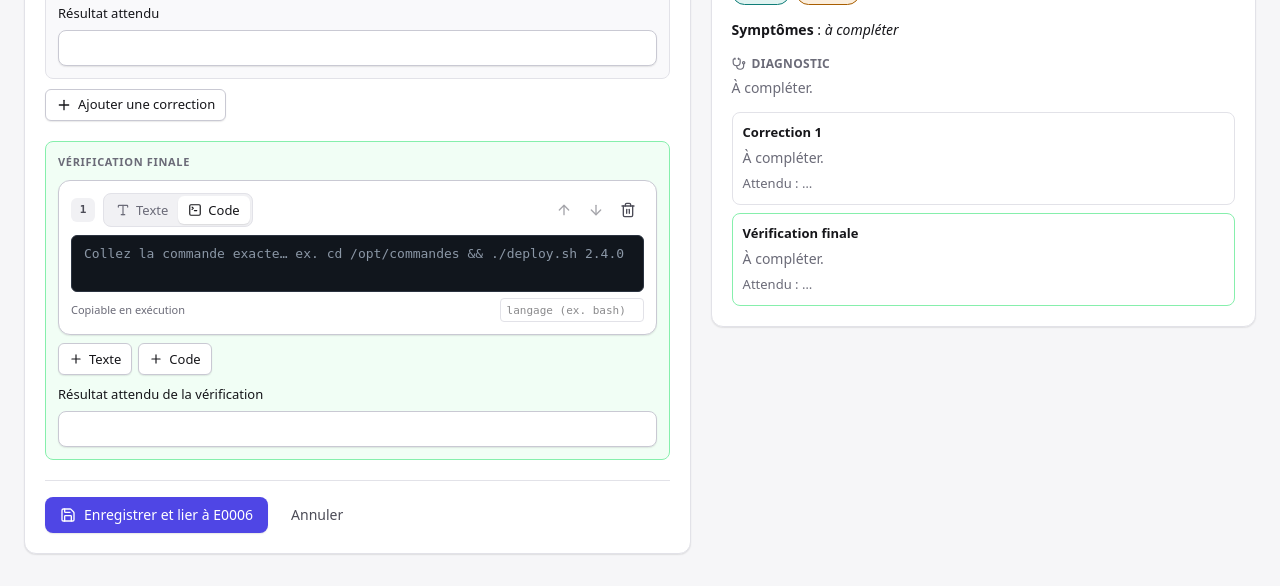
Test: NouvelleResolutionPage › titre obligatoire
(page scrolled)
Click the button "Enregistrer et lier à E0006" at x=157, y=515, box [45,497,268,533]
(page scrolled)
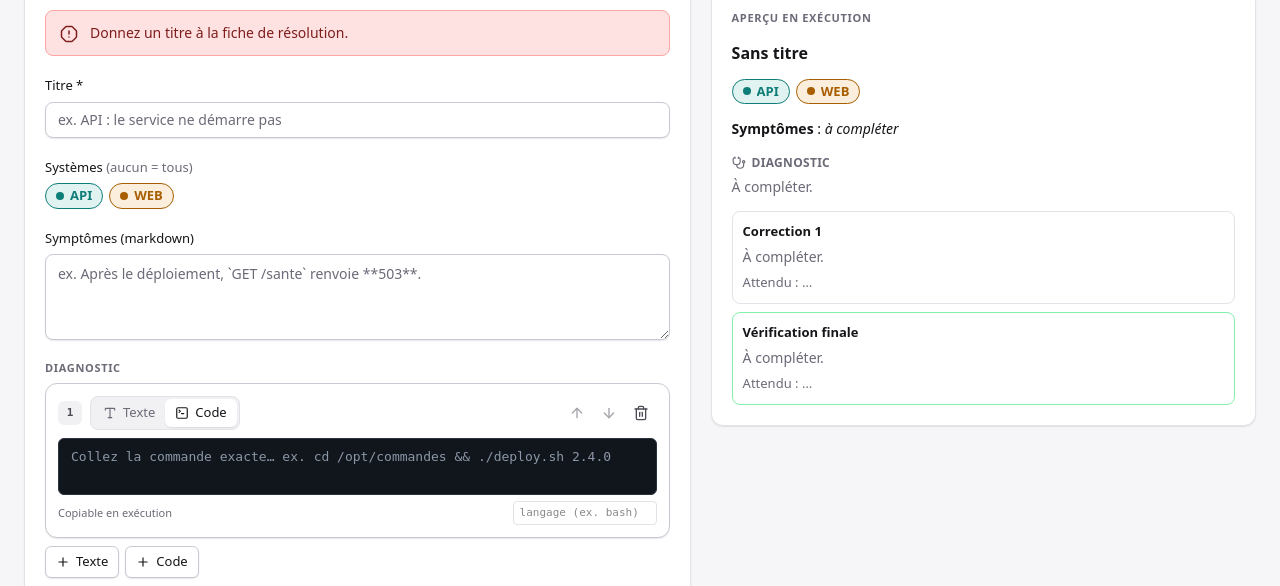
expect the message shows "Donnez un titre": met, box [90,23,348,42]
